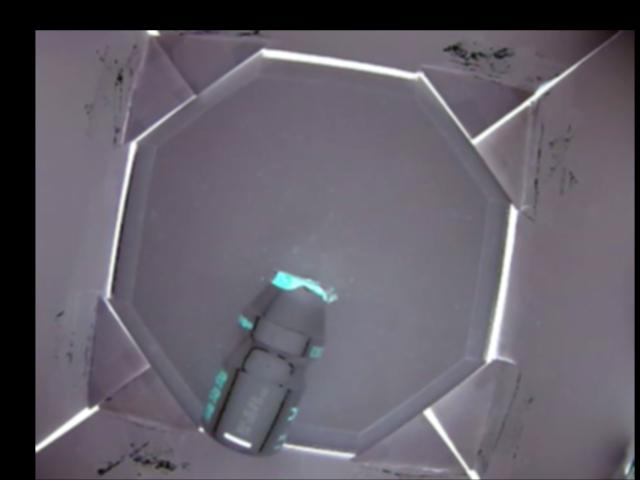Bottle: (197, 271, 335, 456)
